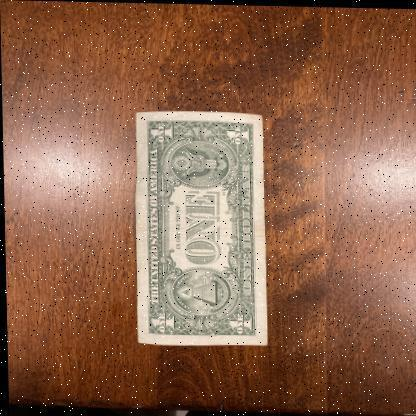one-back: (132, 109, 268, 347)
